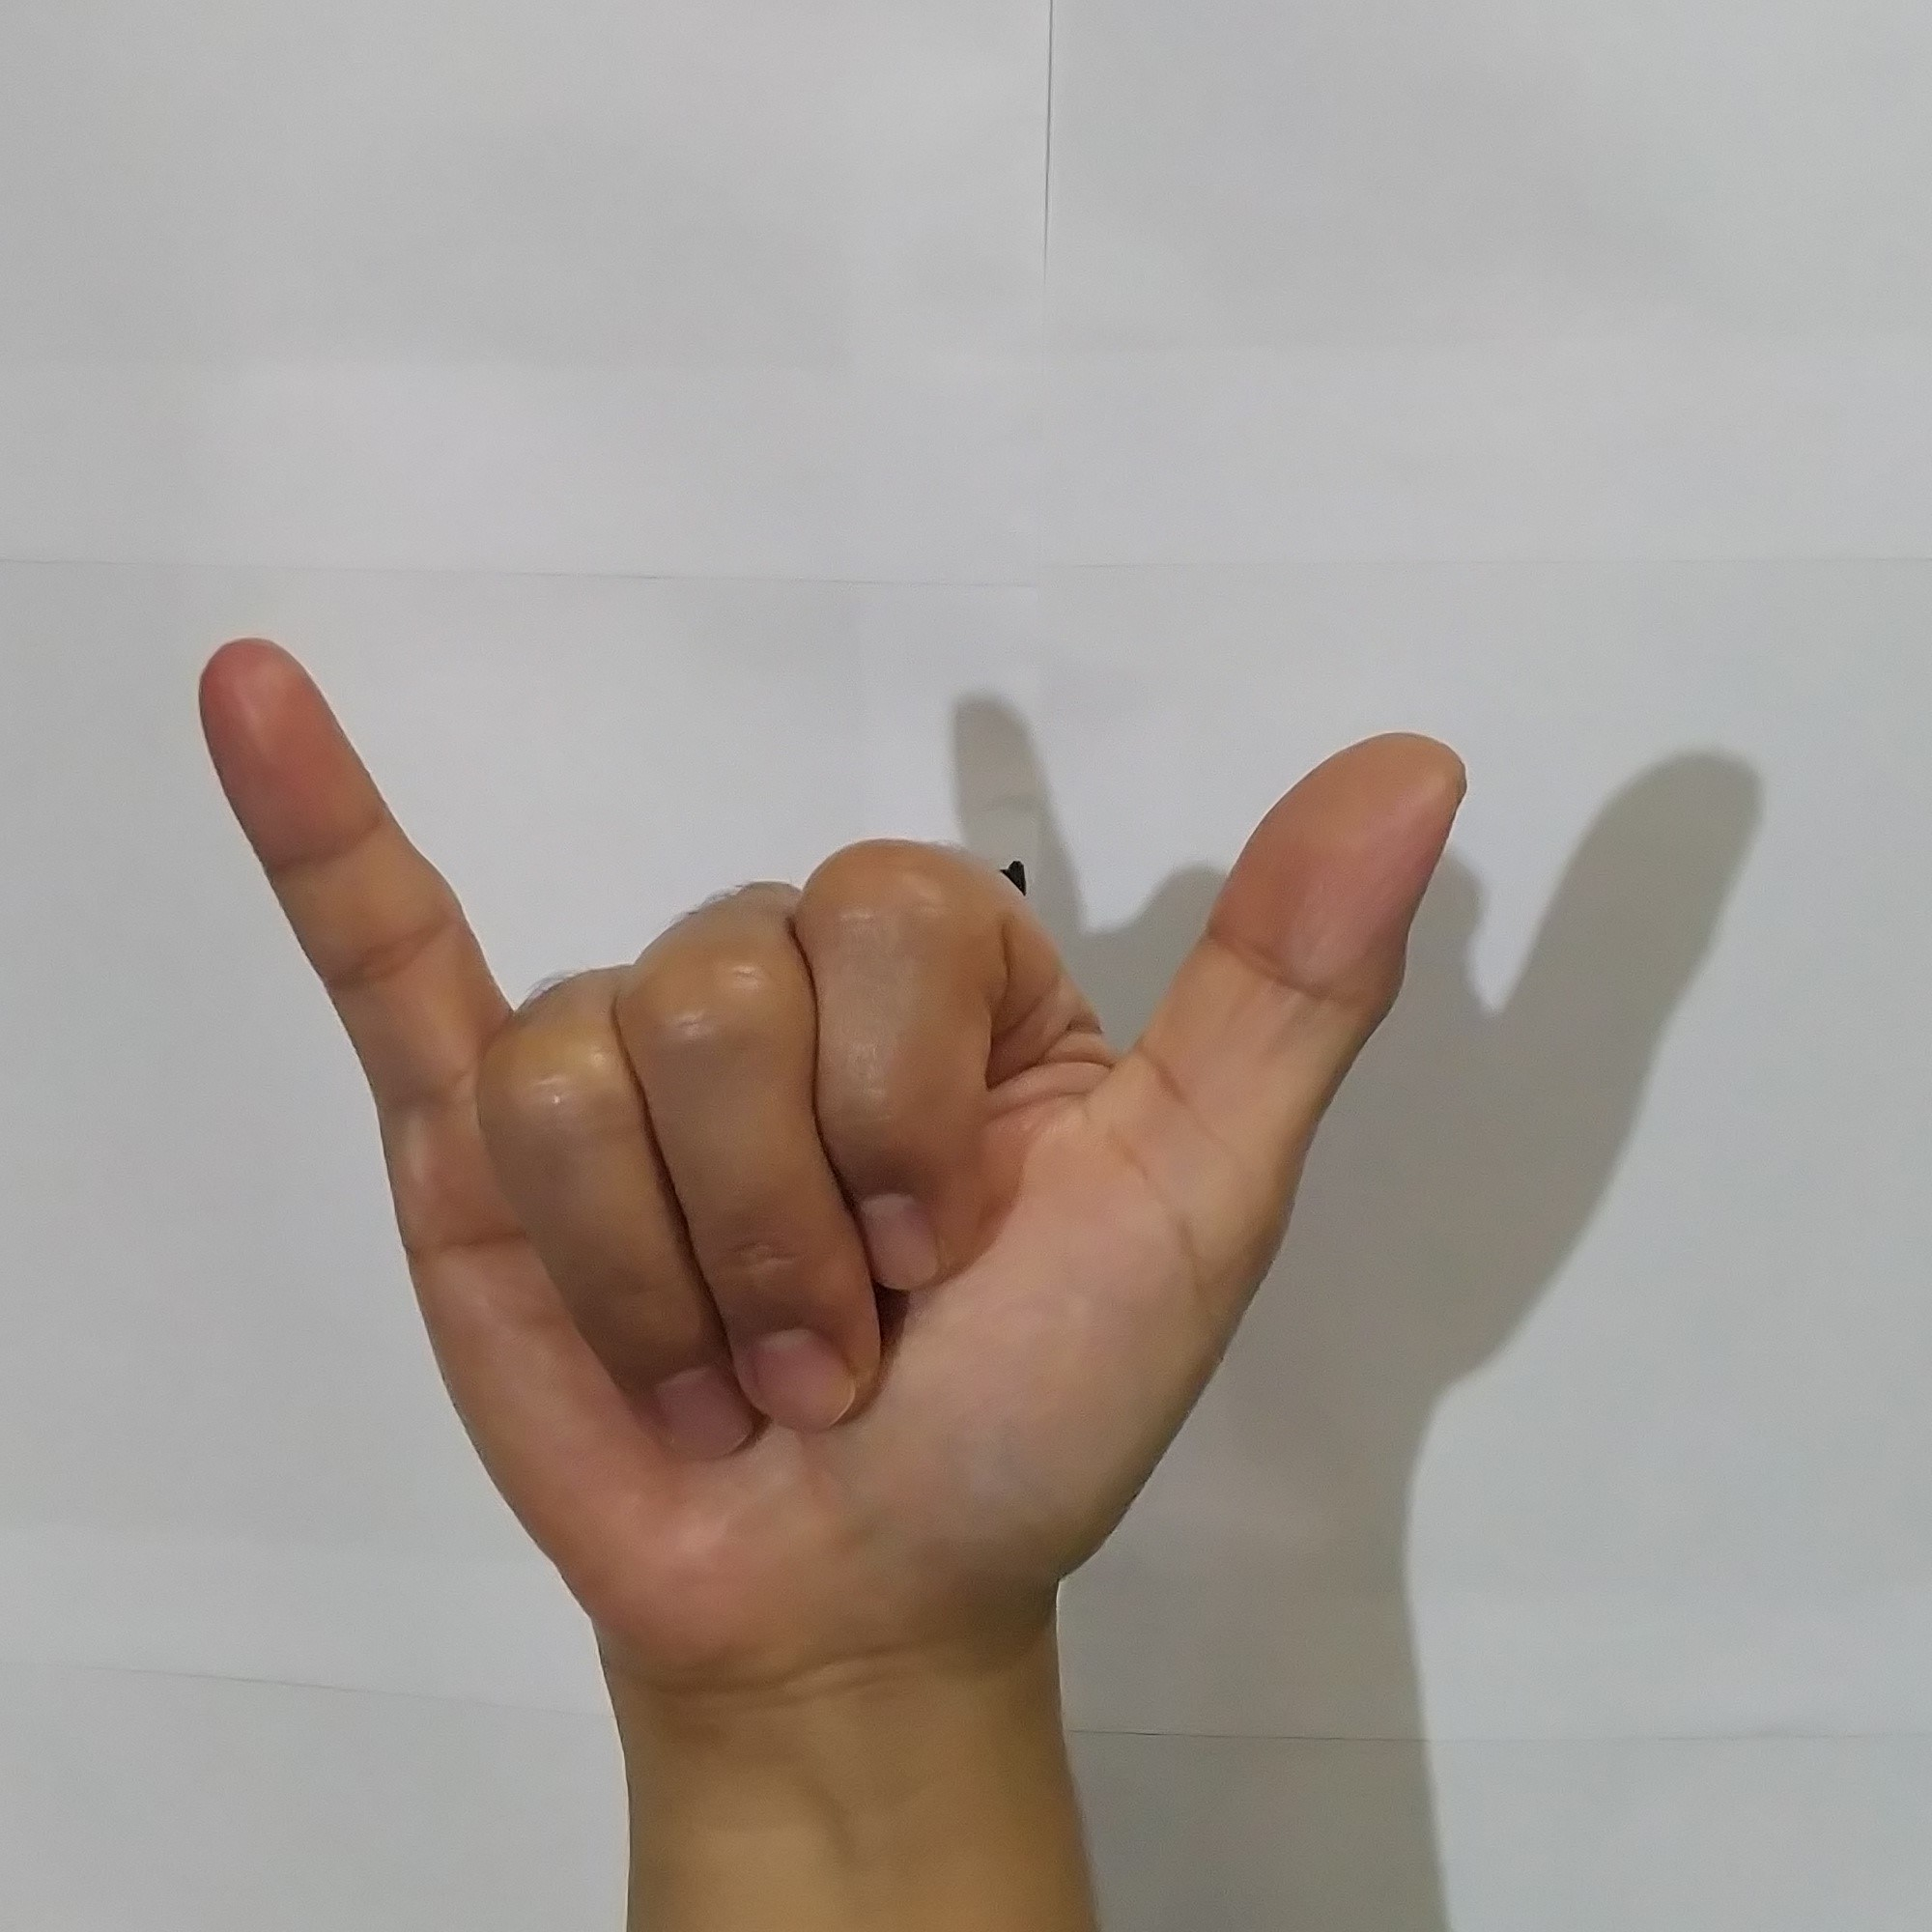Y: (177, 587, 1495, 1677)
